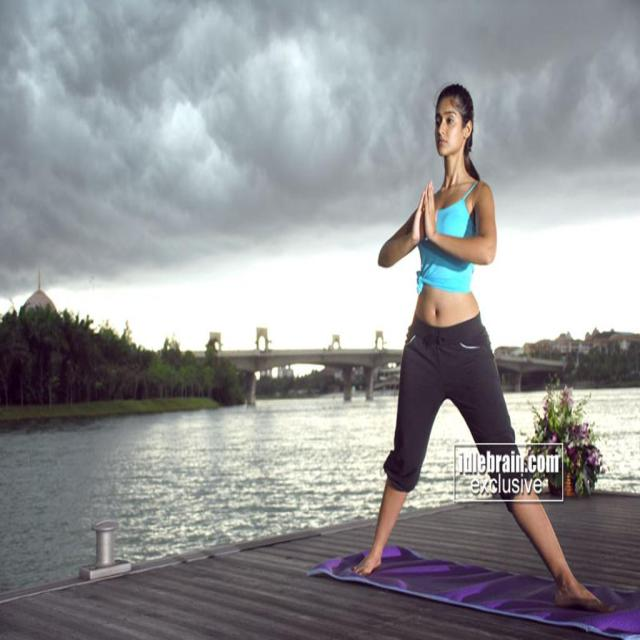Face: (427, 88, 473, 166)
